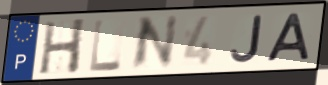4: (180, 13, 217, 69)
A: (264, 11, 313, 64)
H: (37, 17, 88, 76)
J: (228, 13, 264, 65)
L: (88, 17, 123, 74)
N: (128, 13, 181, 73)
